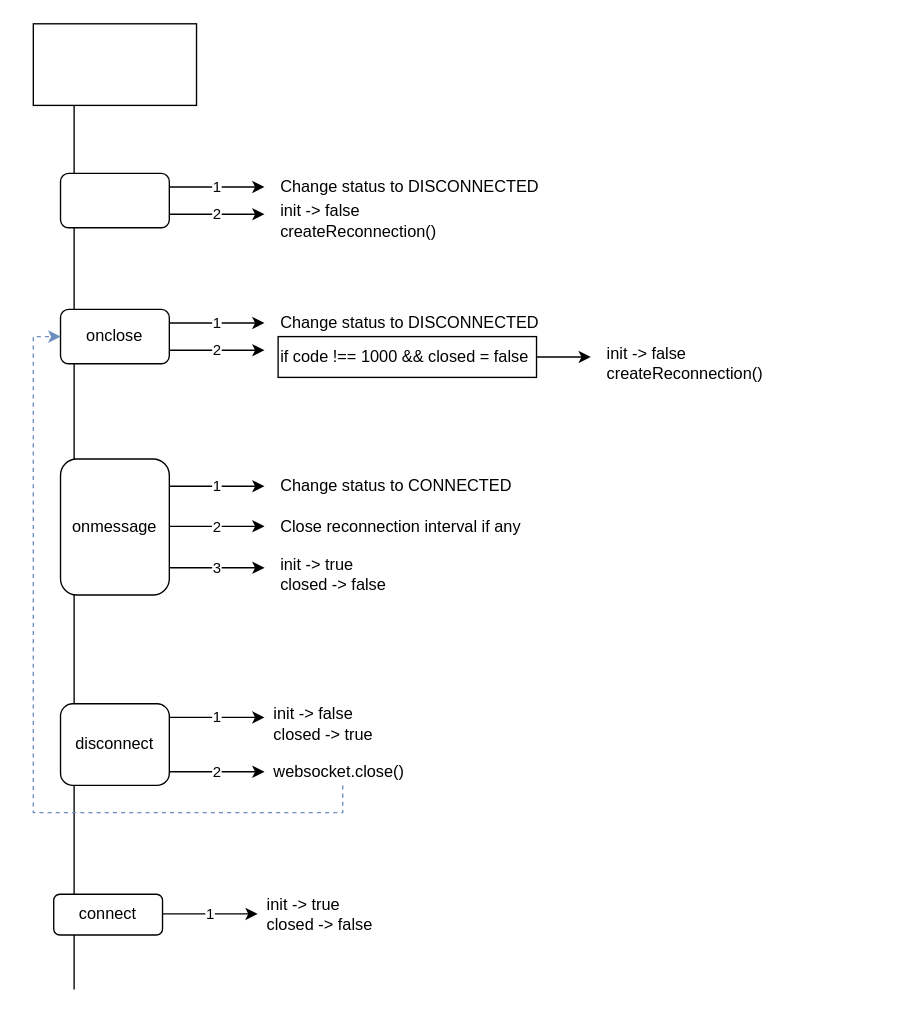
The diagram is 914 pixels wide and 1015 high, and some of its shapes have lost their labels. The shapes that lost their labels are listed below. From the top down, each one's centre as x and y in pixels, then its label:
(114,63): WebSocketConnector
(114,200): onerror
